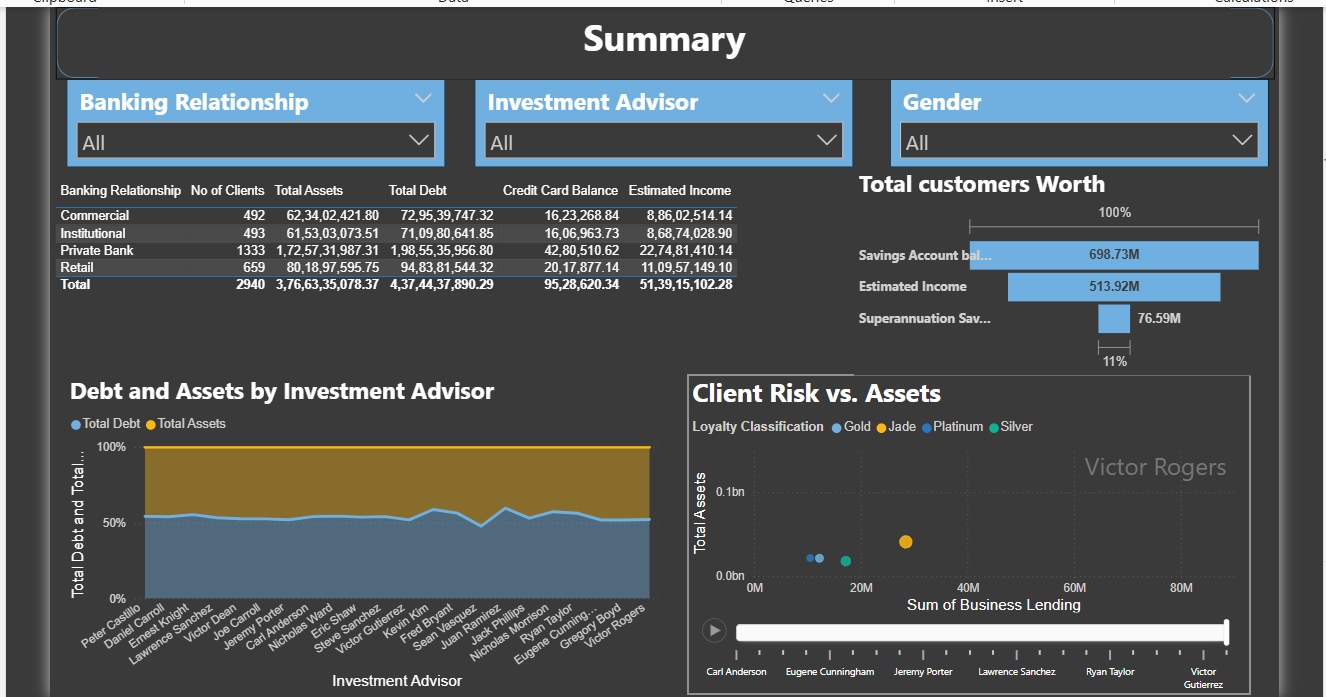

The page's visual inventory and layout, read from the dashboard file:
{"tool":"powerbi","page":{"name":"Summary","canvas":[1280,720],"ordinal":3},"visuals":[{"type":"scatterChart","title":"Client Risk vs. Assets","fields":{"X":["Clients - Banking.Business Lending"],"Y":["Banking Relationship.Total Assets"],"Size":["Clients - Banking.Risk Weighting"],"Series":["Clients - Banking.Loyalty Classification"],"Play":["Investment Advisor.Investment Advisor"]},"box":[664.3,382.9,586.1,332.9],"z":0},{"type":"funnel","title":"Total customers Worth","fields":{"Y":["Clients - Banking.Total Savings Account balance","Clients - Banking.Total Estimated Income","Clients - Banking.Superannuation Savings"]},"box":[837,167,431.4,216.6],"z":1000},{"type":"hundredPercentStackedAreaChart","title":"Debt and Assets by Investment Advisor","fields":{"Y":["Banking Relationship.Total Debt","Banking Relationship.Total Assets"],"Category":["Investment Advisor.Investment Advisor"]},"box":[15.6,382.9,623.6,332.9],"z":2000},{"type":"tableEx","fields":{"Values":["Banking Relationship.Banking Relationship","Clients - Banking.No of Clients","Banking Relationship.Total Assets","Banking Relationship.Total Debt","Clients - Banking.Credit Card Balance","Clients - Banking.Estimated Income"]},"box":[0,178.1,783.8,181.7],"z":3000},{"type":"slicer","fields":{"Values":["Banking Relationship.Banking Relationship"]},"box":[16.5,75.3,394.6,91.8],"z":4000},{"type":"slicer","fields":{"Values":["Investment Advisor.Investment Advisor"]},"box":[442.4,75.3,394.6,91.8],"z":5000},{"type":"slicer","fields":{"Values":["Gender.Gender"]},"box":[875.6,75.3,394.6,91.8],"z":6000},{"type":"shape","box":[5.5,0,1270.2,75.3],"z":7000},{"type":"textbox","box":[49.6,0,1180.3,75.3],"z":8000}]}

Visuals, with their boxes on the page's 1280x720 design canvas (x1, y1, x2, y2). These are canvas units, not pixel positions in the 1326x697 screenshot, which may show the page scaled, cropped or inside an application window:
"Client Risk vs. Assets" scatterChart: 664:383:1250:716
"Total customers Worth" funnel: 837:167:1268:384
"Debt and Assets by Investment Advisor" hundredPercentStackedAreaChart: 16:383:639:716
tableEx - Banking Relationship.Banking Relationship x Clients - Banking.No of Clients: 0:178:784:360
slicer - Banking Relationship.Banking Relationship: 16:75:411:167
slicer - Investment Advisor.Investment Advisor: 442:75:837:167
slicer - Gender.Gender: 876:75:1270:167
shape: 6:0:1276:75
textbox: 50:0:1230:75
